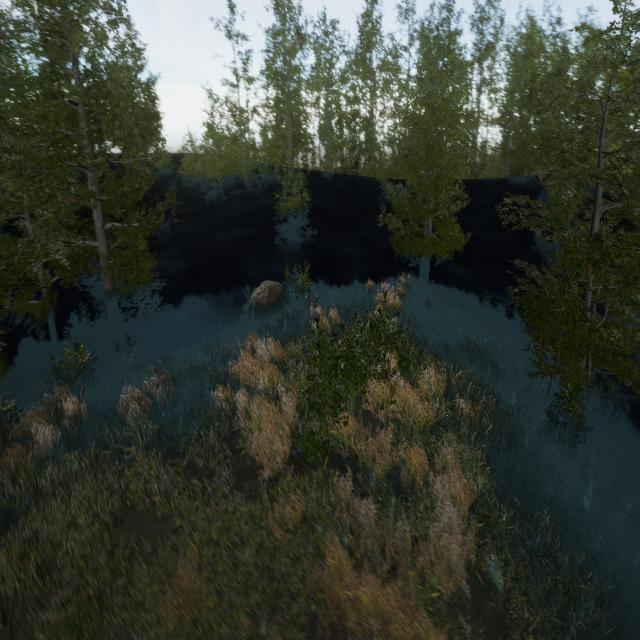Human: (304, 281, 325, 342)
